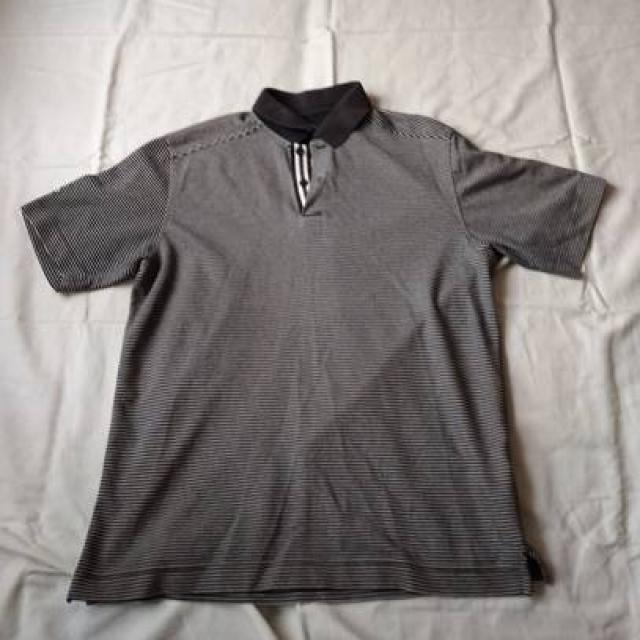Clothes -Biodegradable-: (19, 83, 607, 603)
